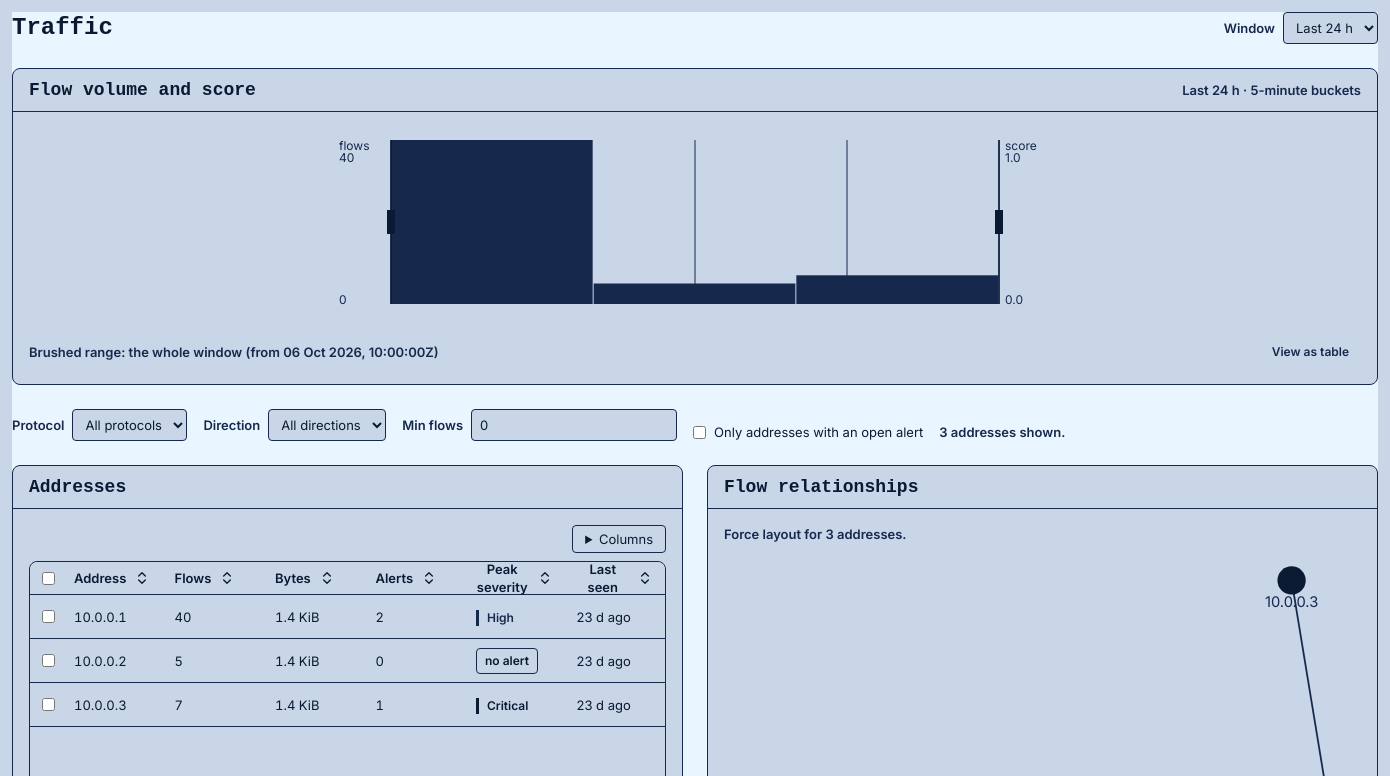
Test: TrafficPage › lets a table stand in for the chart, which is what §9 requires
Click the button "View as table": click(1310, 352) x1=1260 y1=336 x2=1361 y2=368
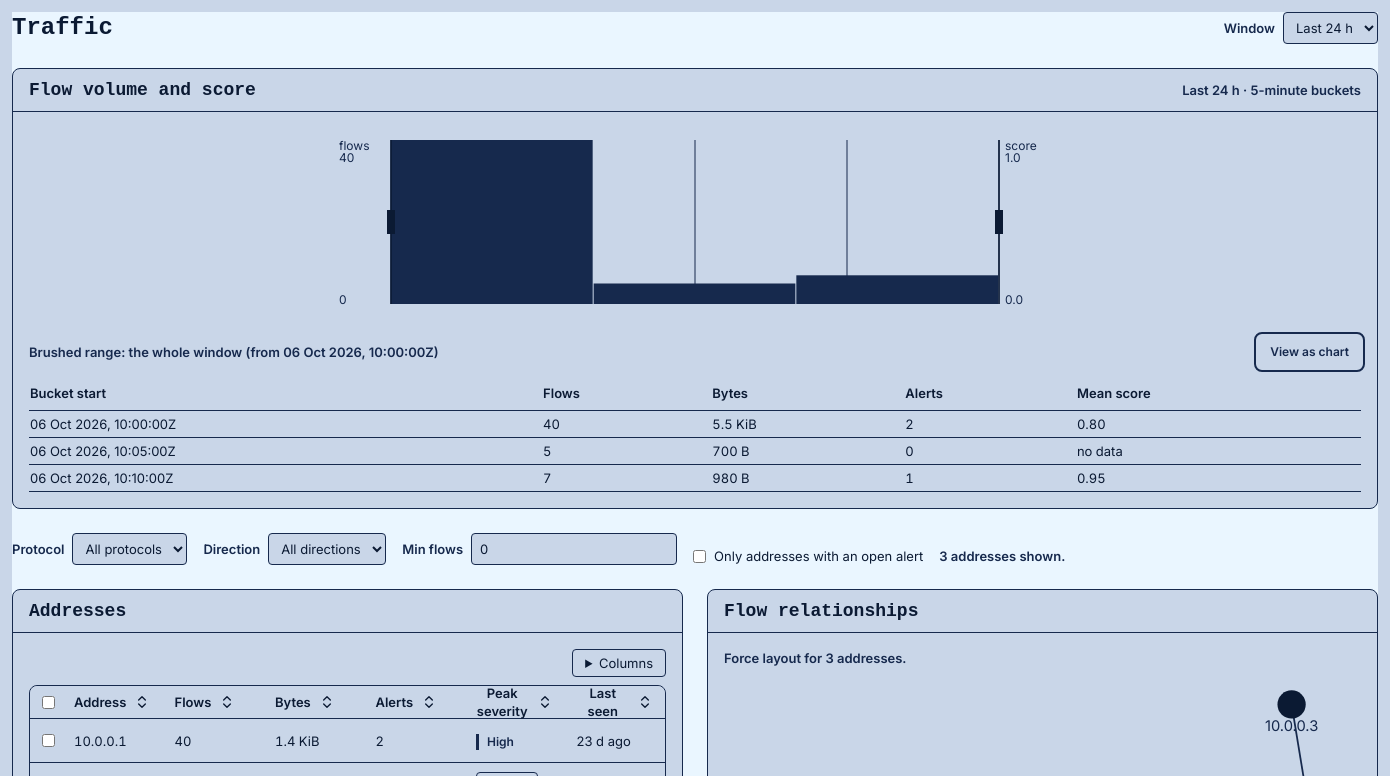
Result: the column heading "Flows" in the row of "Bucket start" is shown at x1=542 y1=376 x2=711 y2=410
Result: the column heading "Bytes" in the row of "Bucket start" is shown at x1=711 y1=376 x2=904 y2=410
Result: the column heading "Mean score" is shown at x1=1076 y1=376 x2=1361 y2=410
